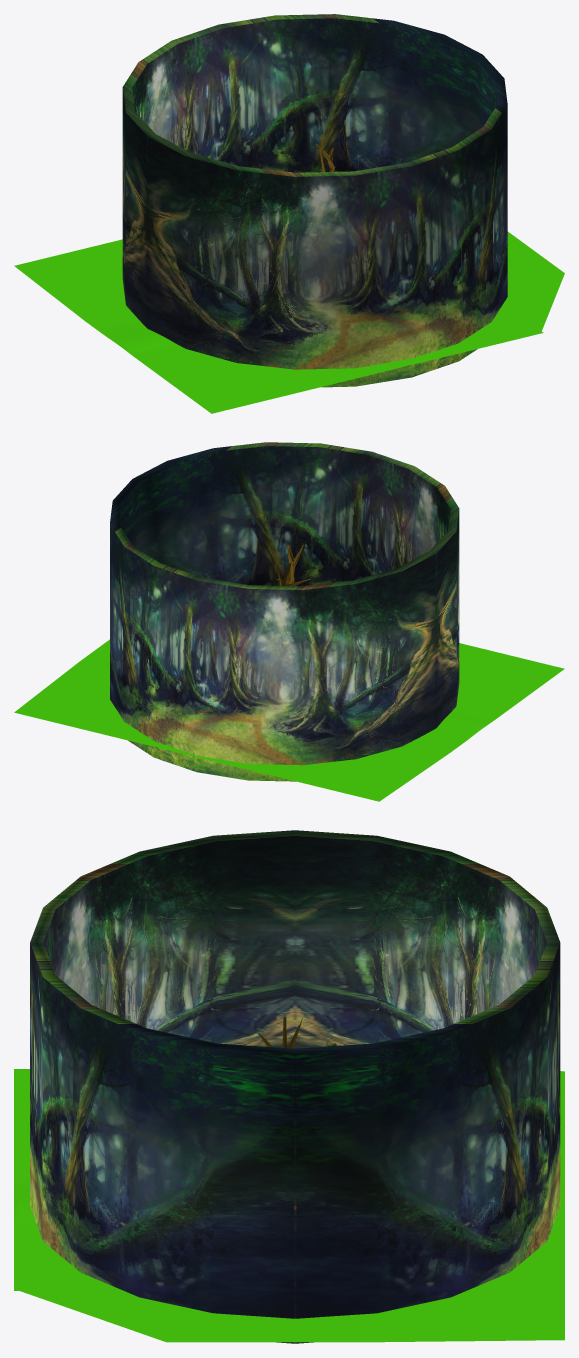
The model's file is Jungle_No_leafs.obj.
3 renders of one model, top to bottom at view 1: azimuth 30°, elevation 25°; view 2: azimuth 150°, elevation 25°; view 3: azimuth 270°, elevation 25°, orthographic. The views are drawn at different scales.
Parts seen in each view (by area): view 1: pPipe1, pPlane1; view 2: pPipe1, pPlane1, polySurface3; view 3: pPipe1, pPlane1.
Part boxes in pixels (<box>): pPipe1: <box>122,14,507,387</box>; pPlane1: <box>14,231,564,413</box>; pPipe1: <box>110,442,459,781</box>; pPlane1: <box>14,639,564,801</box>; polySurface3: <box>275,544,310,585</box>; pPipe1: <box>30,830,560,1343</box>; pPlane1: <box>14,1069,564,1342</box>.
Bounding box in the file's own units: 324 × 160 × 276.
Materials: 6 (3 with a texture image).
